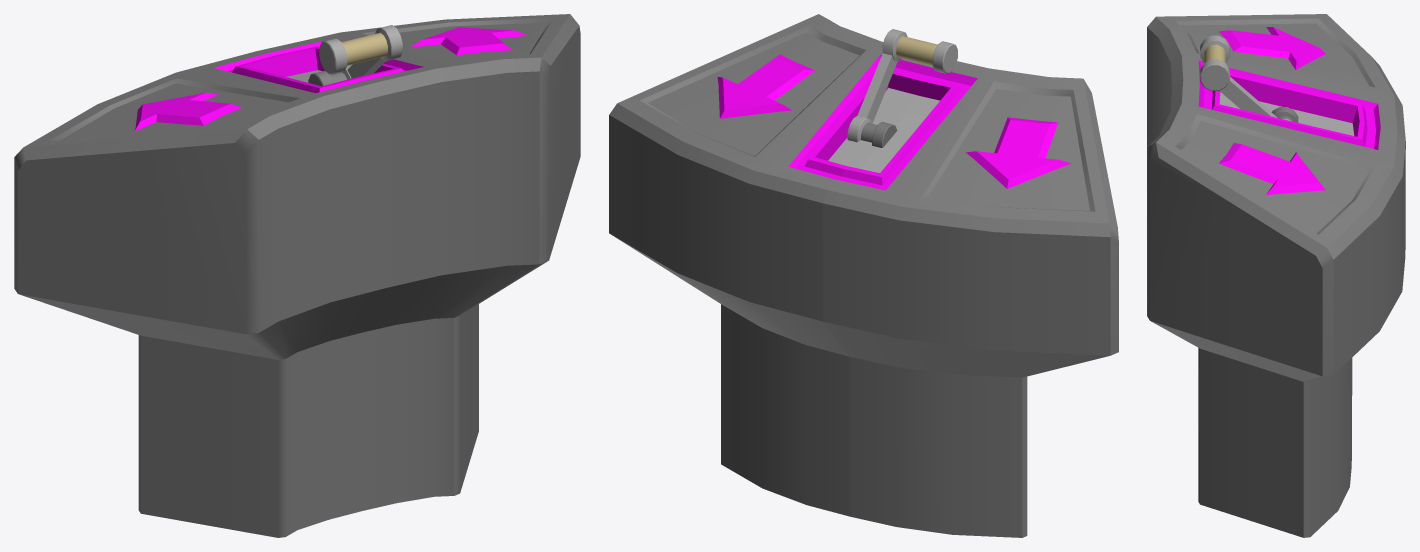
The model's file is AirlockLever.fbx.
The picture shows the model from 3 angles, left to right: view 1: azimuth 30°, elevation 25°; view 2: azimuth 150°, elevation 25°; view 3: azimuth 270°, elevation 25°; orthographic projection. The views are drawn at different scales.
Visible parts, largest first — view 1: Console, LeverTurn, Arrows1, Arrows; view 2: Console, Arrows1, LeverTurn, Arrows, LeverStatic; view 3: Console, Arrows, LeverTurn, Arrows1.
Boxes of the visible parts, x1,y1,x2,y2 form: Console: (14, 14, 580, 537); LeverTurn: (319, 25, 402, 79); Arrows1: (134, 92, 242, 131); Arrows: (411, 27, 527, 55); Console: (609, 14, 1118, 537); Arrows1: (966, 117, 1071, 188); LeverTurn: (847, 29, 957, 142); Arrows: (717, 54, 814, 118); LeverStatic: (861, 121, 897, 147); Console: (1147, 14, 1405, 537); Arrows: (1218, 143, 1325, 195); LeverTurn: (1200, 35, 1291, 121); Arrows1: (1219, 27, 1325, 69).
Bounding box in the file's own units: 3.22 × 2.6 × 1.47.
1 material, 1 textured.
